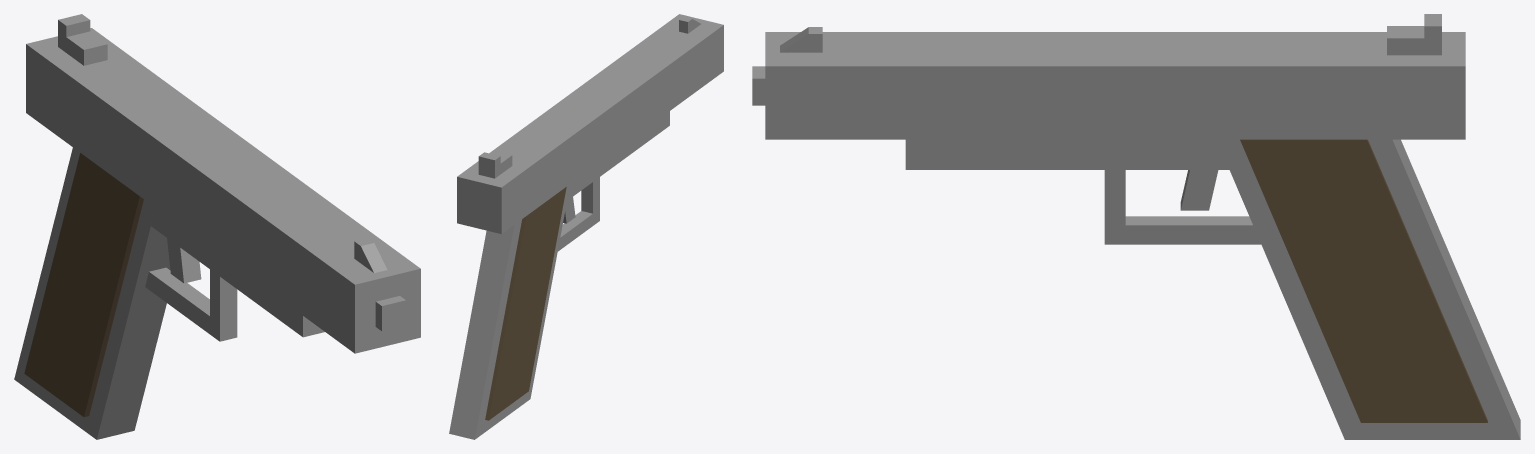
The picture shows the model from 3 angles, left to right: view 1: azimuth 30°, elevation 25°; view 2: azimuth 150°, elevation 25°; view 3: azimuth 270°, elevation 25°; orthographic projection. The views are drawn at different scales.
Visible parts, largest first — view 1: Barrel, Stock, Trigger, UnderBarrel, Sight, GunPoint; view 2: Barrel, Stock, Trigger, UnderBarrel, Sight; view 3: Barrel, Stock, UnderBarrel, Trigger, Sight.
Part boxes in pixels (<box>): Barrel: <box>26,28,420,353</box>; Stock: <box>14,147,170,439</box>; Trigger: <box>145,238,237,341</box>; UnderBarrel: <box>151,208,324,337</box>; Sight: <box>58,14,107,65</box>; GunPoint: <box>375,296,405,331</box>; Barrel: <box>457,14,723,233</box>; Stock: <box>449,184,569,439</box>; Trigger: <box>558,177,599,251</box>; UnderBarrel: <box>567,111,669,200</box>; Sight: <box>478,151,512,178</box>; Barrel: <box>765,27,1465,139</box>; Stock: <box>1217,139,1520,439</box>; UnderBarrel: <box>905,139,1229,169</box>; Trigger: <box>1104,170,1261,244</box>; Sight: <box>1387,14,1441,55</box>.
Bounding box in the file's own units: 42.55 × 238 × 404.
